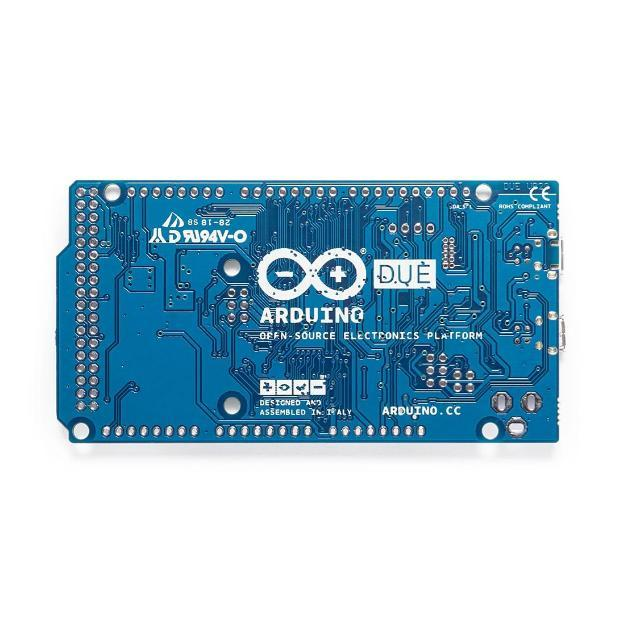Arduino-Due: (57, 181, 565, 444)
